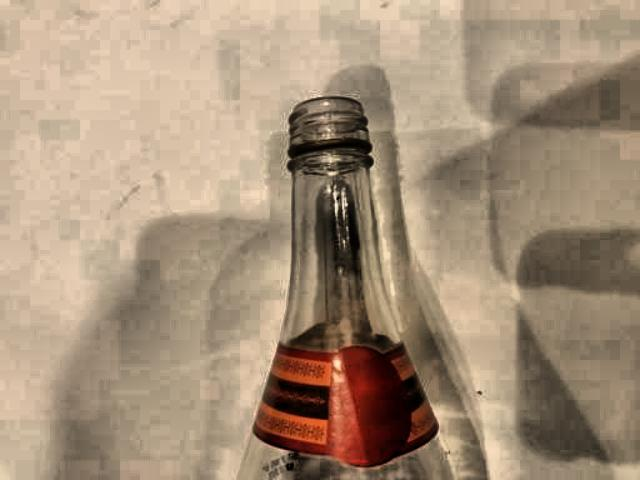Bottles: (225, 76, 489, 480)
